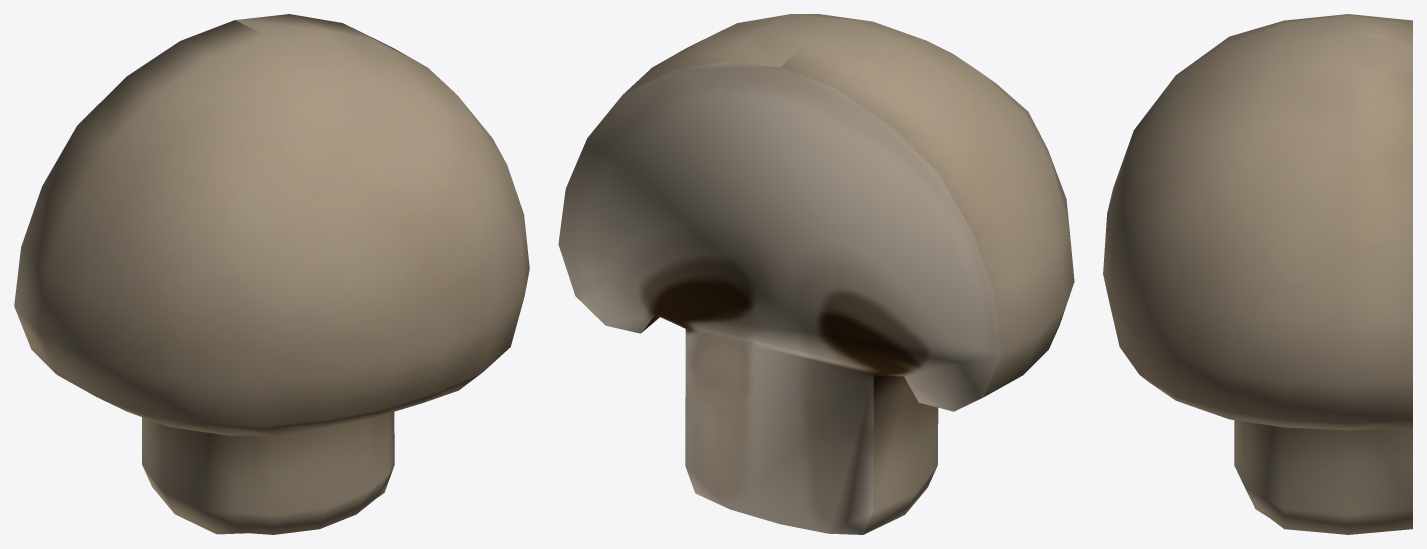
Rendered from MushroomCut.glb.
3 renders of one model, left to right at view 1: azimuth 30°, elevation 25°; view 2: azimuth 150°, elevation 25°; view 3: azimuth 270°, elevation 25°, orthographic.
Parts seen in each view (by area): view 1: Mushroom_Whole; view 2: Mushroom_Whole; view 3: Mushroom_Whole.
Part boxes in pixels (bbox=[...]): Mushroom_Whole: bbox=[14, 14, 529, 534]; Mushroom_Whole: bbox=[558, 14, 1074, 534]; Mushroom_Whole: bbox=[1103, 14, 1412, 534].
Size of the model in its own units: 0.7678 by 0.75 by 0.4518.
Materials: 1 (1 with a texture image).
